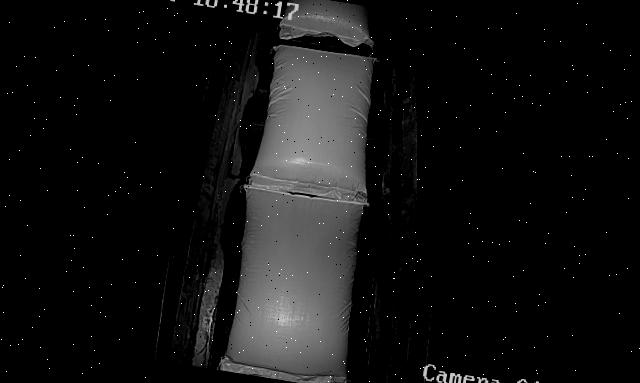bag: (214, 181, 382, 383), (249, 41, 390, 204), (279, 0, 380, 52)
